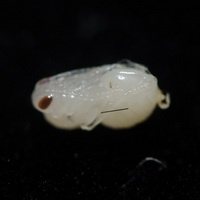insect: (32, 60, 169, 130)
